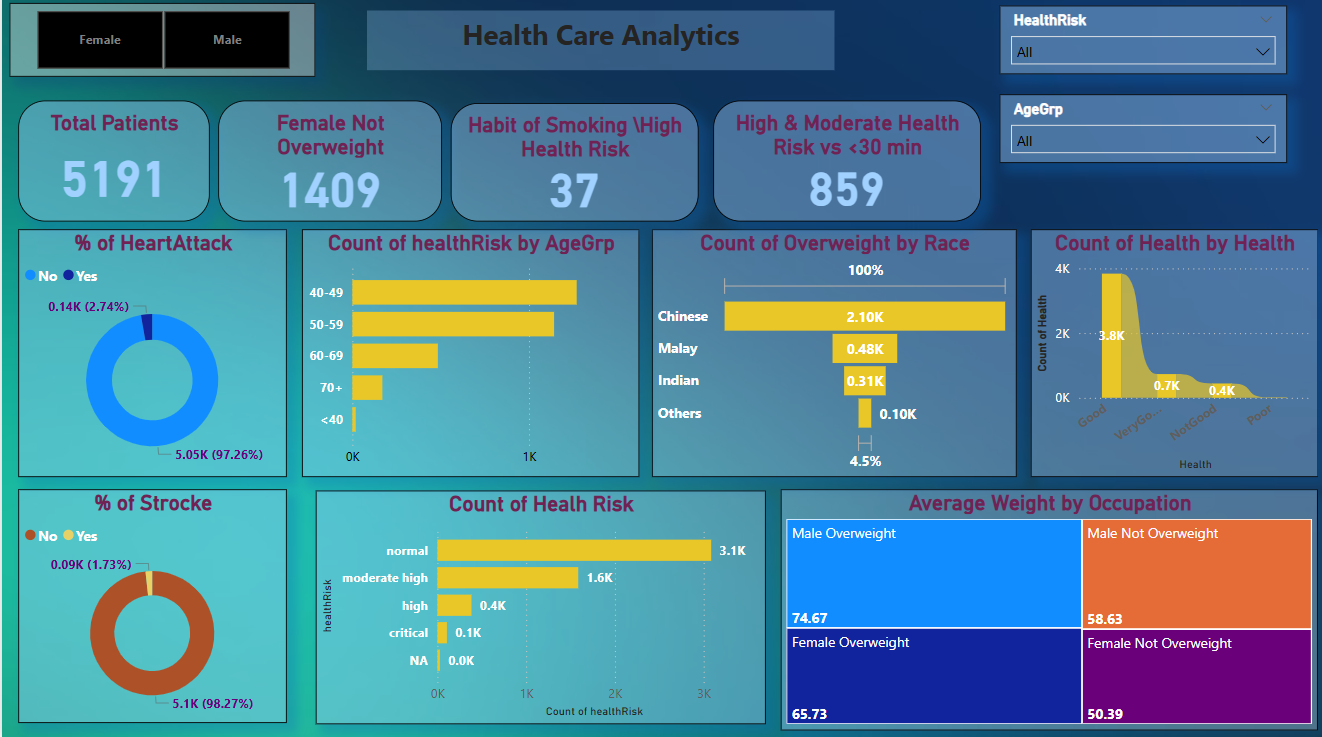

This screenshot's page, from the dashboard's own definition file:
{"tool":"powerbi","page":{"name":"Page 1","canvas":[1280,720],"ordinal":0},"visuals":[{"type":"card","title":"Total Patients","fields":{"Values":["CountNonNull(Table1.scnZone)"]},"box":[15.7,103.8,184.6,117],"z":0},{"type":"pieChart","title":"% of HeartAttack","fields":{"Category":["Table1.HeartAttack"],"Y":["CountNonNull(Table1.HeartAttack)"]},"box":[15.7,228,259.4,238.9],"z":1000},{"type":"donutChart","title":"% of Strocke","fields":{"Category":["Table1.Stroke"],"Y":["CountNonNull(Table1.Stroke)"]},"box":[15.7,479,259.4,225.6],"z":2000},{"type":"card","title":"Female Not Overweight","fields":{"Values":["CountNonNull(Table1.Overweight)"]},"box":[208.7,103.8,216,117],"z":3000},{"type":"barChart","title":"Count of Healh Risk","fields":{"Category":["Table1.healthRisk"],"Y":["CountNonNull(Table1.healthRisk)"]},"box":[302.8,480.2,434.3,225.6],"z":4000},{"type":"treemap","title":"Average Weight by Occupation","fields":{"Group":["Table1.Overweight"],"Values":["Avg(Table1.Weight)"]},"box":[751.6,479,518.8,232.8],"z":5000},{"type":"funnel","fields":{"Category":["Table1.Race"],"Y":["CountNonNull(Table1.Overweight)"]},"box":[627.3,228,352.3,238.9],"z":6000},{"type":"barChart","fields":{"Category":["Table1.AgeGrp"],"Y":["CountNonNull(Table1.healthRisk)"]},"box":[289.5,228,325.7,238.9],"z":7000},{"type":"card","title":"Habit of Smoking \\High Health Risk","fields":{"Values":["CountNonNull(Table1.Smoking)"]},"box":[433.1,106.2,238.9,114.6],"z":8000},{"type":"card","title":"High & Moderate Health Risk vs <30 min","fields":{"Values":["CountNonNull(Table1.Exercise)"]},"box":[686.5,103.8,258.2,117],"z":9000},{"type":"slicer","fields":{"Values":["Table1.Gender"]},"box":[7.2,9.7,295.6,71.2],"z":10000},{"type":"slicer","fields":{"Values":["Table1.healthRisk"]},"box":[962.7,12.1,277.5,66.4],"z":11000},{"type":"slicer","fields":{"Values":["Table1.AgeGrp"]},"box":[962.7,97.7,277.5,66.4],"z":12000},{"type":"ribbonChart","fields":{"Category":["Table1.Health"],"Y":["CountNonNull(Table1.Health)"]},"box":[992.9,228,277.5,238.9],"z":13000},{"type":"textbox","box":[352.3,16.9,451.2,57.9],"z":14000}]}

Visuals, with their boxes in screenshot pixels (x1, y1, x2, y2), scaled from the page's 1280x720 canvas onto the 1322x737 screenshot:
"Total Patients" card: left=16, top=106, right=207, bottom=226
"% of HeartAttack" pieChart: left=16, top=233, right=284, bottom=478
"% of Strocke" donutChart: left=16, top=490, right=284, bottom=721
"Female Not Overweight" card: left=216, top=106, right=439, bottom=226
"Count of Healh Risk" barChart: left=313, top=492, right=761, bottom=722
"Average Weight by Occupation" treemap: left=776, top=490, right=1312, bottom=729
funnel - Table1.Race x CountNonNull(Table1.Overweight): left=648, top=233, right=1012, bottom=478
barChart - Table1.AgeGrp x CountNonNull(Table1.healthRisk): left=299, top=233, right=635, bottom=478
"Habit of Smoking \High Health Risk" card: left=447, top=109, right=694, bottom=226
"High & Moderate Health Risk vs <30 min" card: left=709, top=106, right=976, bottom=226
slicer - Table1.Gender: left=7, top=10, right=313, bottom=83
slicer - Table1.healthRisk: left=994, top=12, right=1281, bottom=80
slicer - Table1.AgeGrp: left=994, top=100, right=1281, bottom=168
ribbonChart - Table1.Health x CountNonNull(Table1.Health): left=1025, top=233, right=1312, bottom=478
textbox: left=364, top=17, right=830, bottom=77
